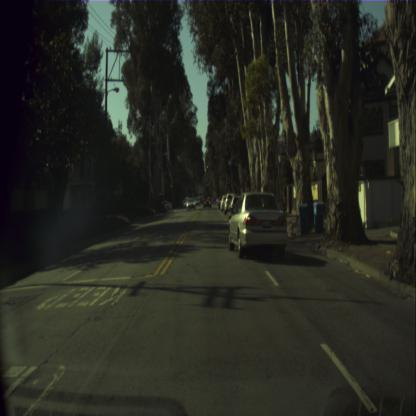Red: (206, 164, 208, 172), (206, 182, 209, 187), (170, 184, 172, 190), (228, 181, 230, 187)
